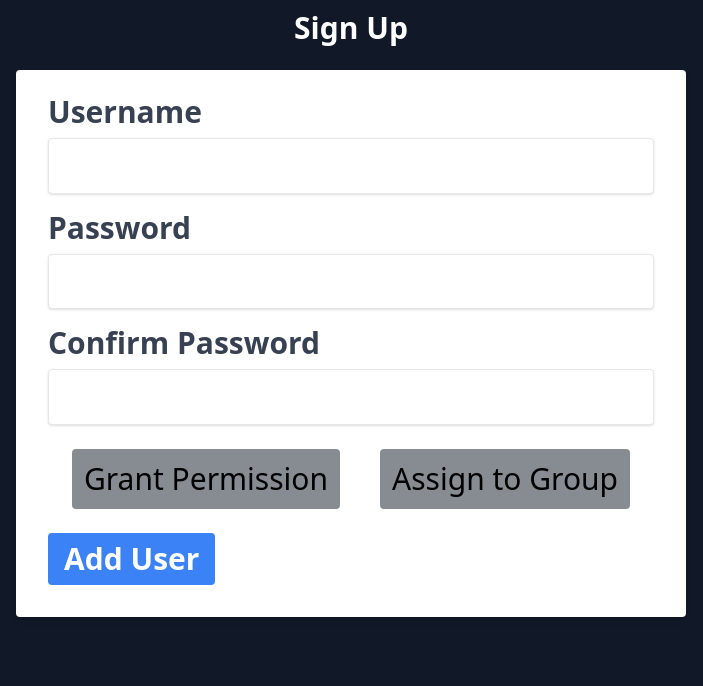
Test: AddUser Component Suite › shows error message if passwords do not match
Type "TestUser" into the field labelled "Username" at (351, 166), box [48,138,654,194]
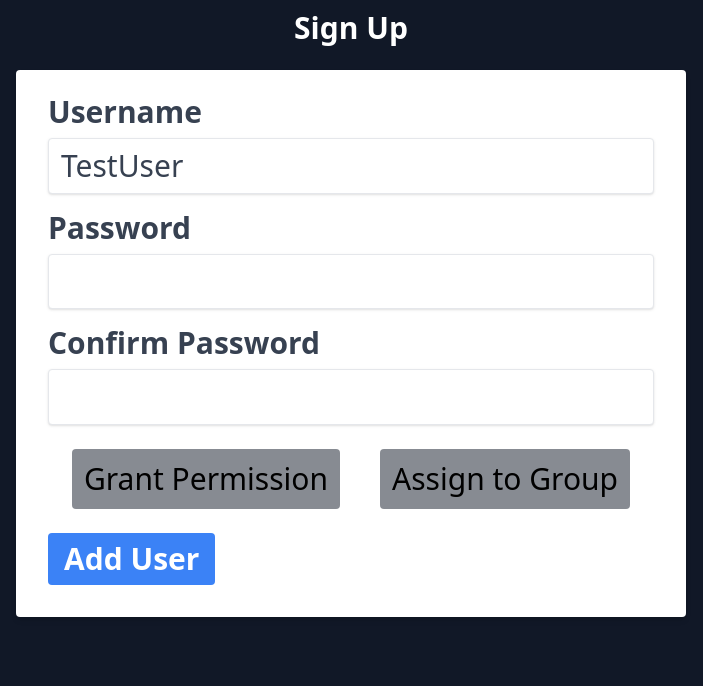
Type "Password1" into the password field labelled "Password" at (351, 281), box [48,254,654,309]
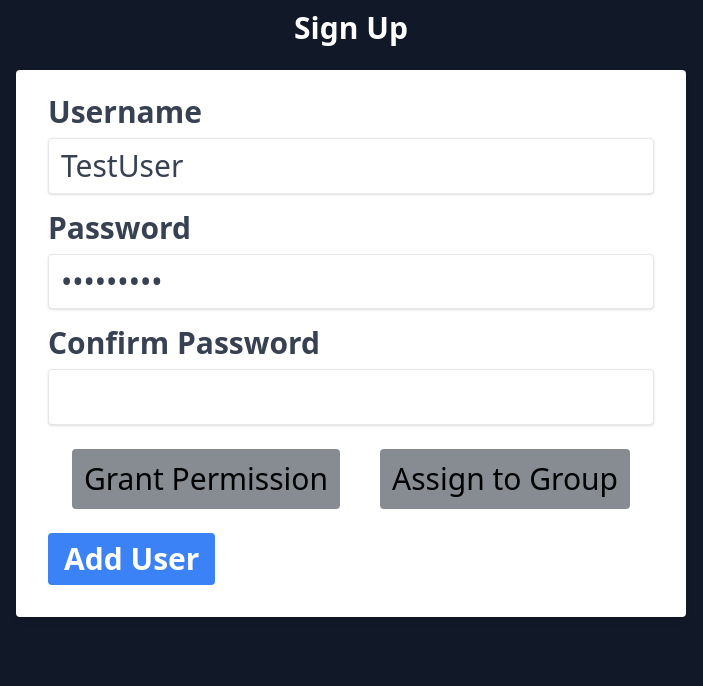
Type "Password2" into the password field labelled "Confirm Password" at (351, 397), box [48,369,654,424]
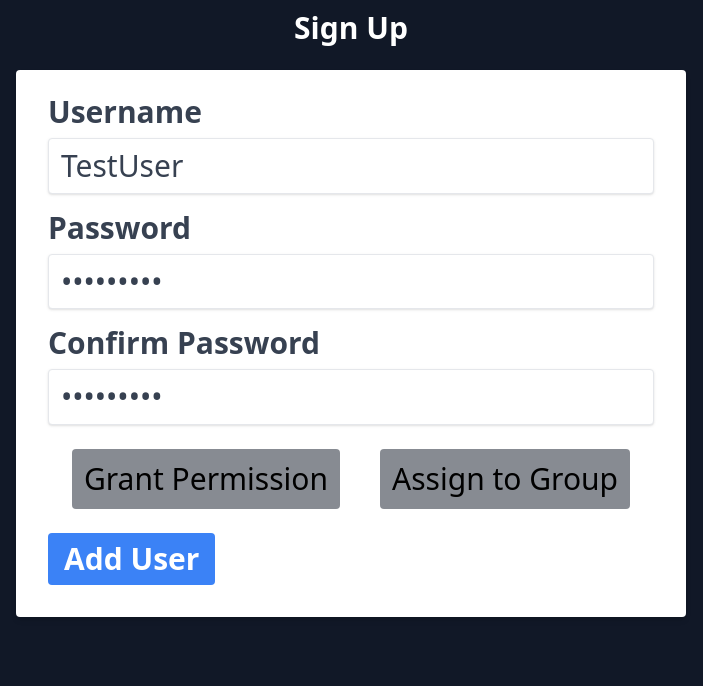
Click the button "Add User" at (132, 558), box [48,532,215,584]
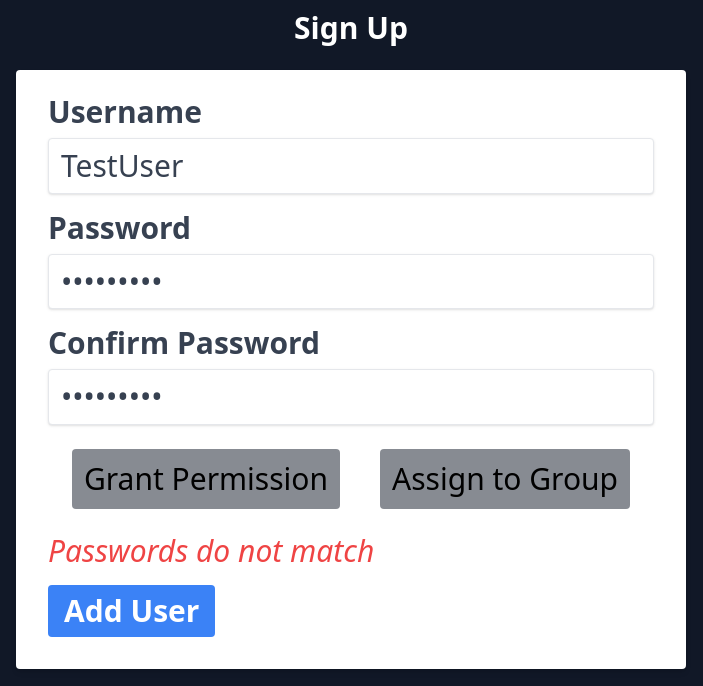
Now the text "Passwords do not match" is shown, box [48,530,374,570]
